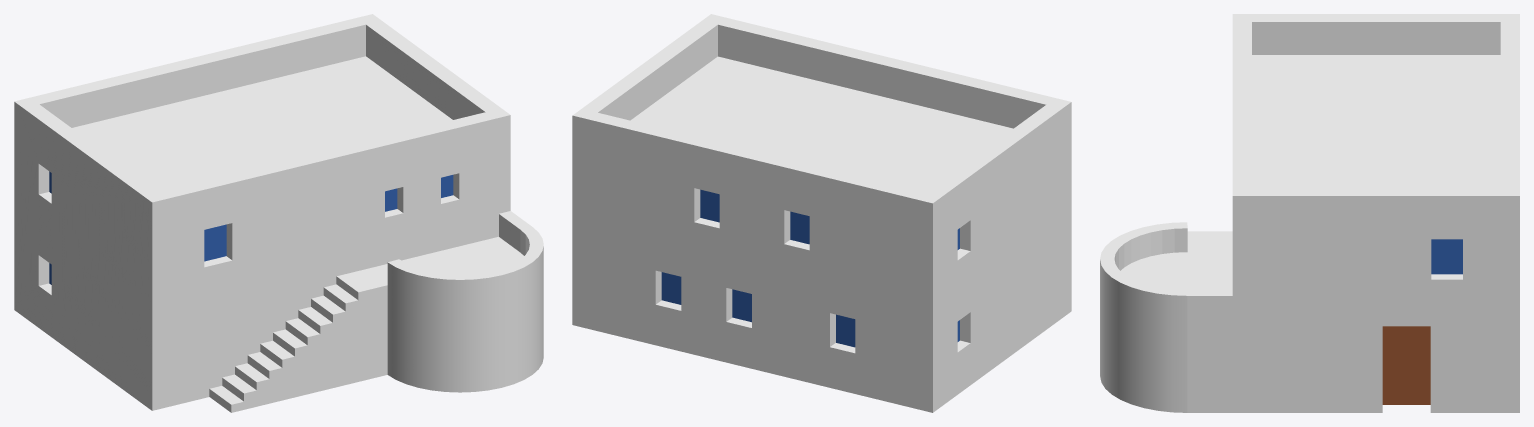
Rendered from house_01.fbx.
The picture shows the model from 3 angles, left to right: view 1: azimuth 30°, elevation 25°; view 2: azimuth 150°, elevation 25°; view 3: azimuth 270°, elevation 25°; orthographic projection. The views are drawn at different scales.
Visible parts, largest first — view 1: house_01; view 2: house_01; view 3: house_01.
Boxes of the visible parts, left/top/right/bottom form: house_01: left=14, top=14, right=543, bottom=412; house_01: left=572, top=14, right=1071, bottom=412; house_01: left=1100, top=14, right=1519, bottom=412.
Size of the model in its own units: 900 by 500 by 877.
1 material, 1 textured.
